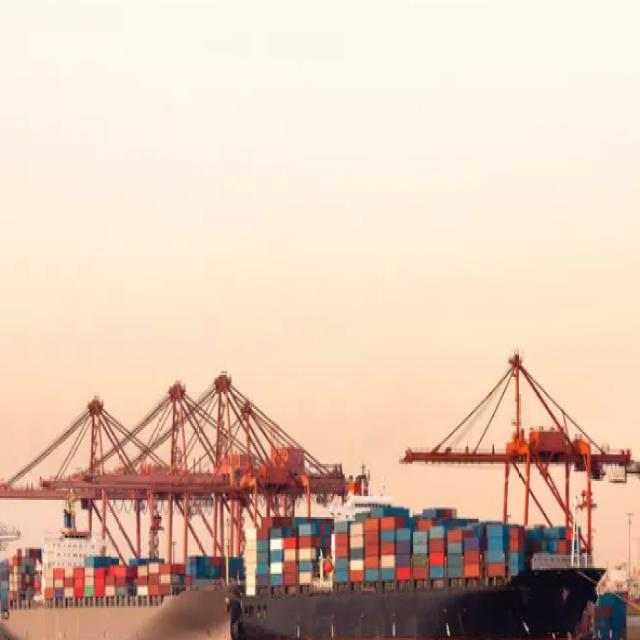cargoship: (225, 462, 592, 638)
